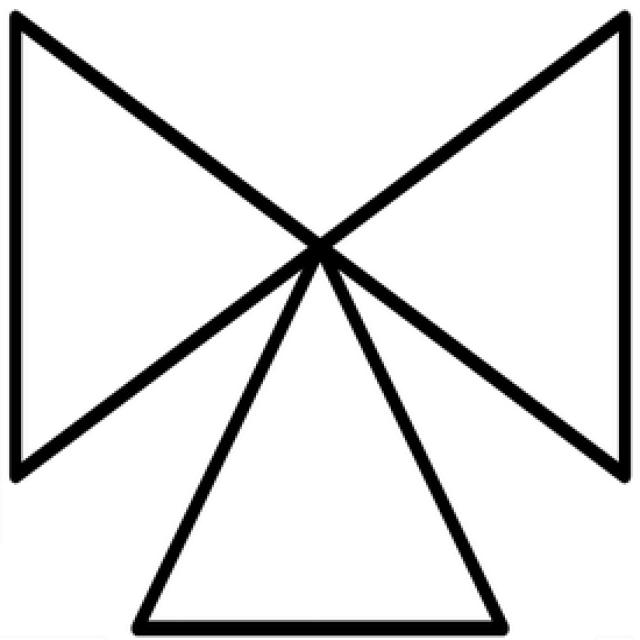3-way Valve: (13, 10, 626, 626)
